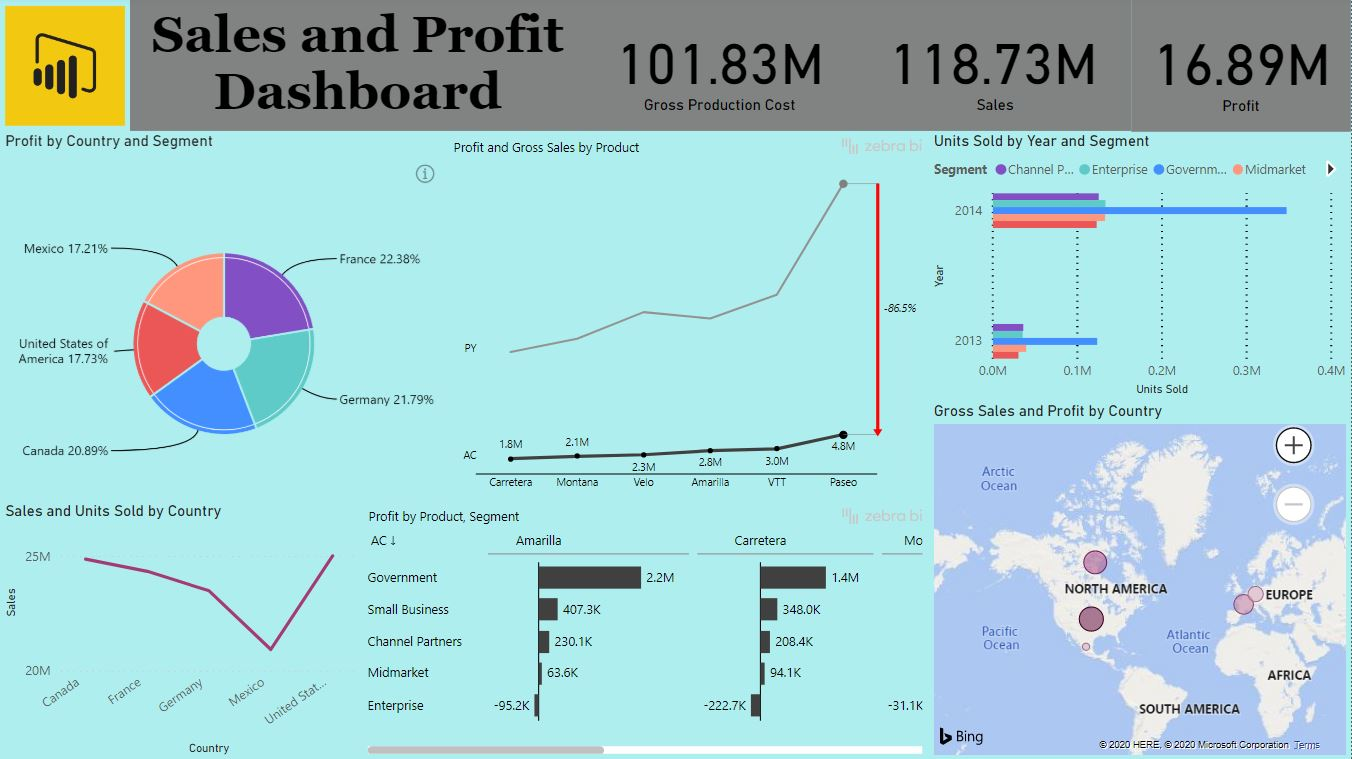

The page's visual inventory and layout, read from the dashboard file:
{"tool":"powerbi","page":{"name":"Sales and Profit","canvas":[1280,720],"ordinal":0},"visuals":[{"type":"card","fields":{"Values":["Sum(financials.Profit)"]},"box":[1094,0,186,124.4],"z":0},{"type":"card","fields":{"Values":["Sum(financials. Sales)"]},"box":[831.5,0,262.6,124.4],"z":1000},{"type":"lineChart","fields":{"Category":["financials.Country","financials.Date.Variation.Date Hierarchy.Year","financials.Date.Variation.Date Hierarchy.Quarter","financials.Date.Variation.Date Hierarchy.Month","financials.Date.Variation.Date Hierarchy.Day"],"Y":["Sum(financials. Sales)"]},"box":[0,475.2,343.4,244.8],"z":2000},{"type":"card","fields":{"Values":["Sum(financials.COGS)"]},"box":[577.1,0,254.4,124.4],"z":3000},{"type":"textbox","box":[153.3,0,432.5,124.8],"z":4000},{"type":"waterfall6C9ED82ABD1F44C4A0D590CE01EB5EE7","title":"Profit and Gross Sales by Product","fields":{"Category":["financials.Product"],"Values":["Sum(financials.Profit)"],"PreviousYear":["Sum(financials.Gross Sales)"]},"box":[424.2,124.8,455,350.5],"z":5000},{"type":"variance8E4BB1B41A8942A7B897C7014A6E1F56","fields":{"Category":["financials.Segment"],"Group":["financials.Product"],"Values":["Sum(financials.Profit)"]},"box":[343.4,475.2,535.8,244.8],"z":6000},{"type":"ZoomChartsPieChartPaidE77E4ED357DC402ABA005987437CF500","fields":{"Category":["financials.Country","financials.Segment"],"Values":["Sum(financials.Profit)"]},"box":[0,124.8,424.2,350.5],"z":7000},{"type":"clusteredBarChart","fields":{"Category":["financials.Date.Variation.Date Hierarchy.Year","financials.Date.Variation.Date Hierarchy.Quarter","financials.Date.Variation.Date Hierarchy.Month"],"Y":["Sum(financials.Units Sold)"],"Series":["financials.Segment"]},"box":[879.2,124.8,400.4,255.4],"z":8000},{"type":"map","fields":{"Category":["financials.Country"],"Size":["Sum(financials.Gross Sales)"]},"box":[879.2,380.2,400.4,339.8],"z":9000},{"type":"image","box":[0,0,153.3,124.8],"z":10001}]}

Visuals, with their boxes in screenshot pixels (x1, y1, x2, y2), scaled from the page's 1280x720 canvas onto the 1352x759 screenshot:
card - Sum(financials.Profit): (left=1156, top=0, right=1351, bottom=131)
card - Sum(financials. Sales): (left=878, top=0, right=1156, bottom=131)
lineChart - financials.Country x financials.Date.Variation.Date Hierarchy.Year: (left=0, top=501, right=363, bottom=758)
card - Sum(financials.COGS): (left=610, top=0, right=878, bottom=131)
textbox: (left=162, top=0, right=619, bottom=132)
"Profit and Gross Sales by Product" waterfall6C9ED82ABD1F44C4A0D590CE01EB5EE7: (left=448, top=132, right=929, bottom=501)
variance8E4BB1B41A8942A7B897C7014A6E1F56 - financials.Segment x financials.Product: (left=363, top=501, right=929, bottom=758)
ZoomChartsPieChartPaidE77E4ED357DC402ABA005987437CF500 - financials.Country x financials.Segment: (left=0, top=132, right=448, bottom=501)
clusteredBarChart - financials.Date.Variation.Date Hierarchy.Year x financials.Date.Variation.Date Hierarchy.Quarter: (left=929, top=132, right=1351, bottom=401)
map - financials.Country x Sum(financials.Gross Sales): (left=929, top=401, right=1351, bottom=758)
image: (left=0, top=0, right=162, bottom=132)
